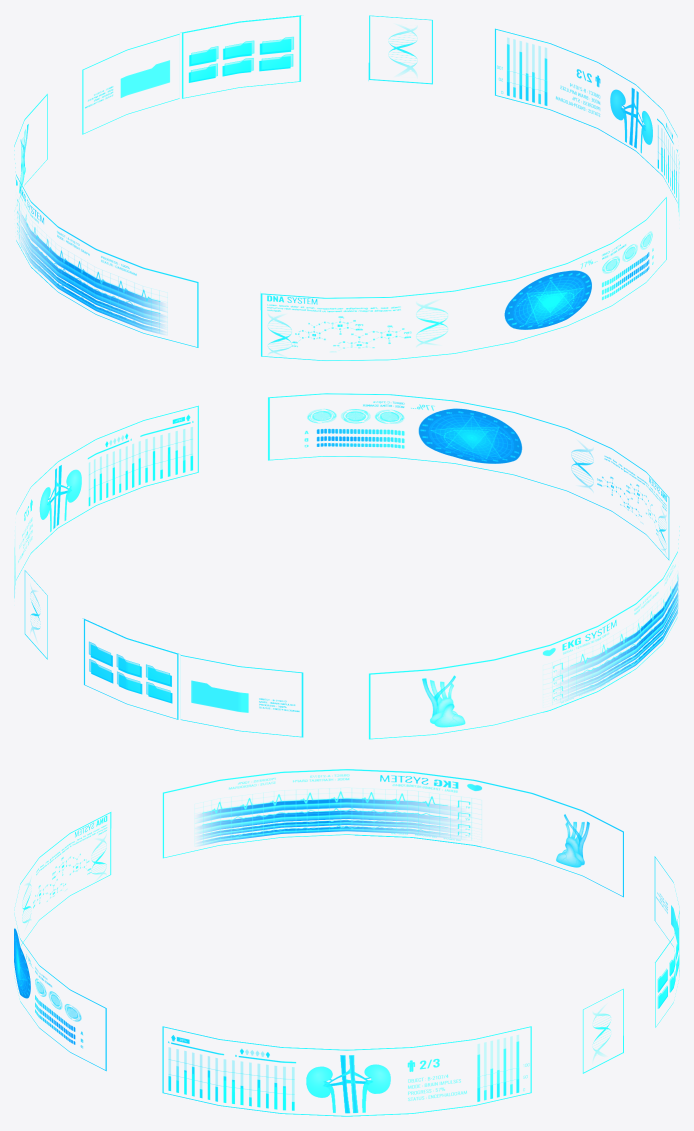
The model's file is Holo2.gltf.
The picture shows the model from 3 angles, top to bottom: view 1: azimuth 30°, elevation 25°; view 2: azimuth 150°, elevation 25°; view 3: azimuth 270°, elevation 25°; orthographic projection.
Visible parts, largest first — view 1: Cylinder; view 2: Cylinder; view 3: Cylinder.
Part boxes in pixels (x1,y1,x2,y2): Cylinder: [14, 15, 679, 360]; Cylinder: [14, 393, 679, 739]; Cylinder: [14, 769, 679, 1116].
Size of the model in its own units: 33.01 by 3.66 by 33.01.
Materials: 1 (1 with a texture image).
